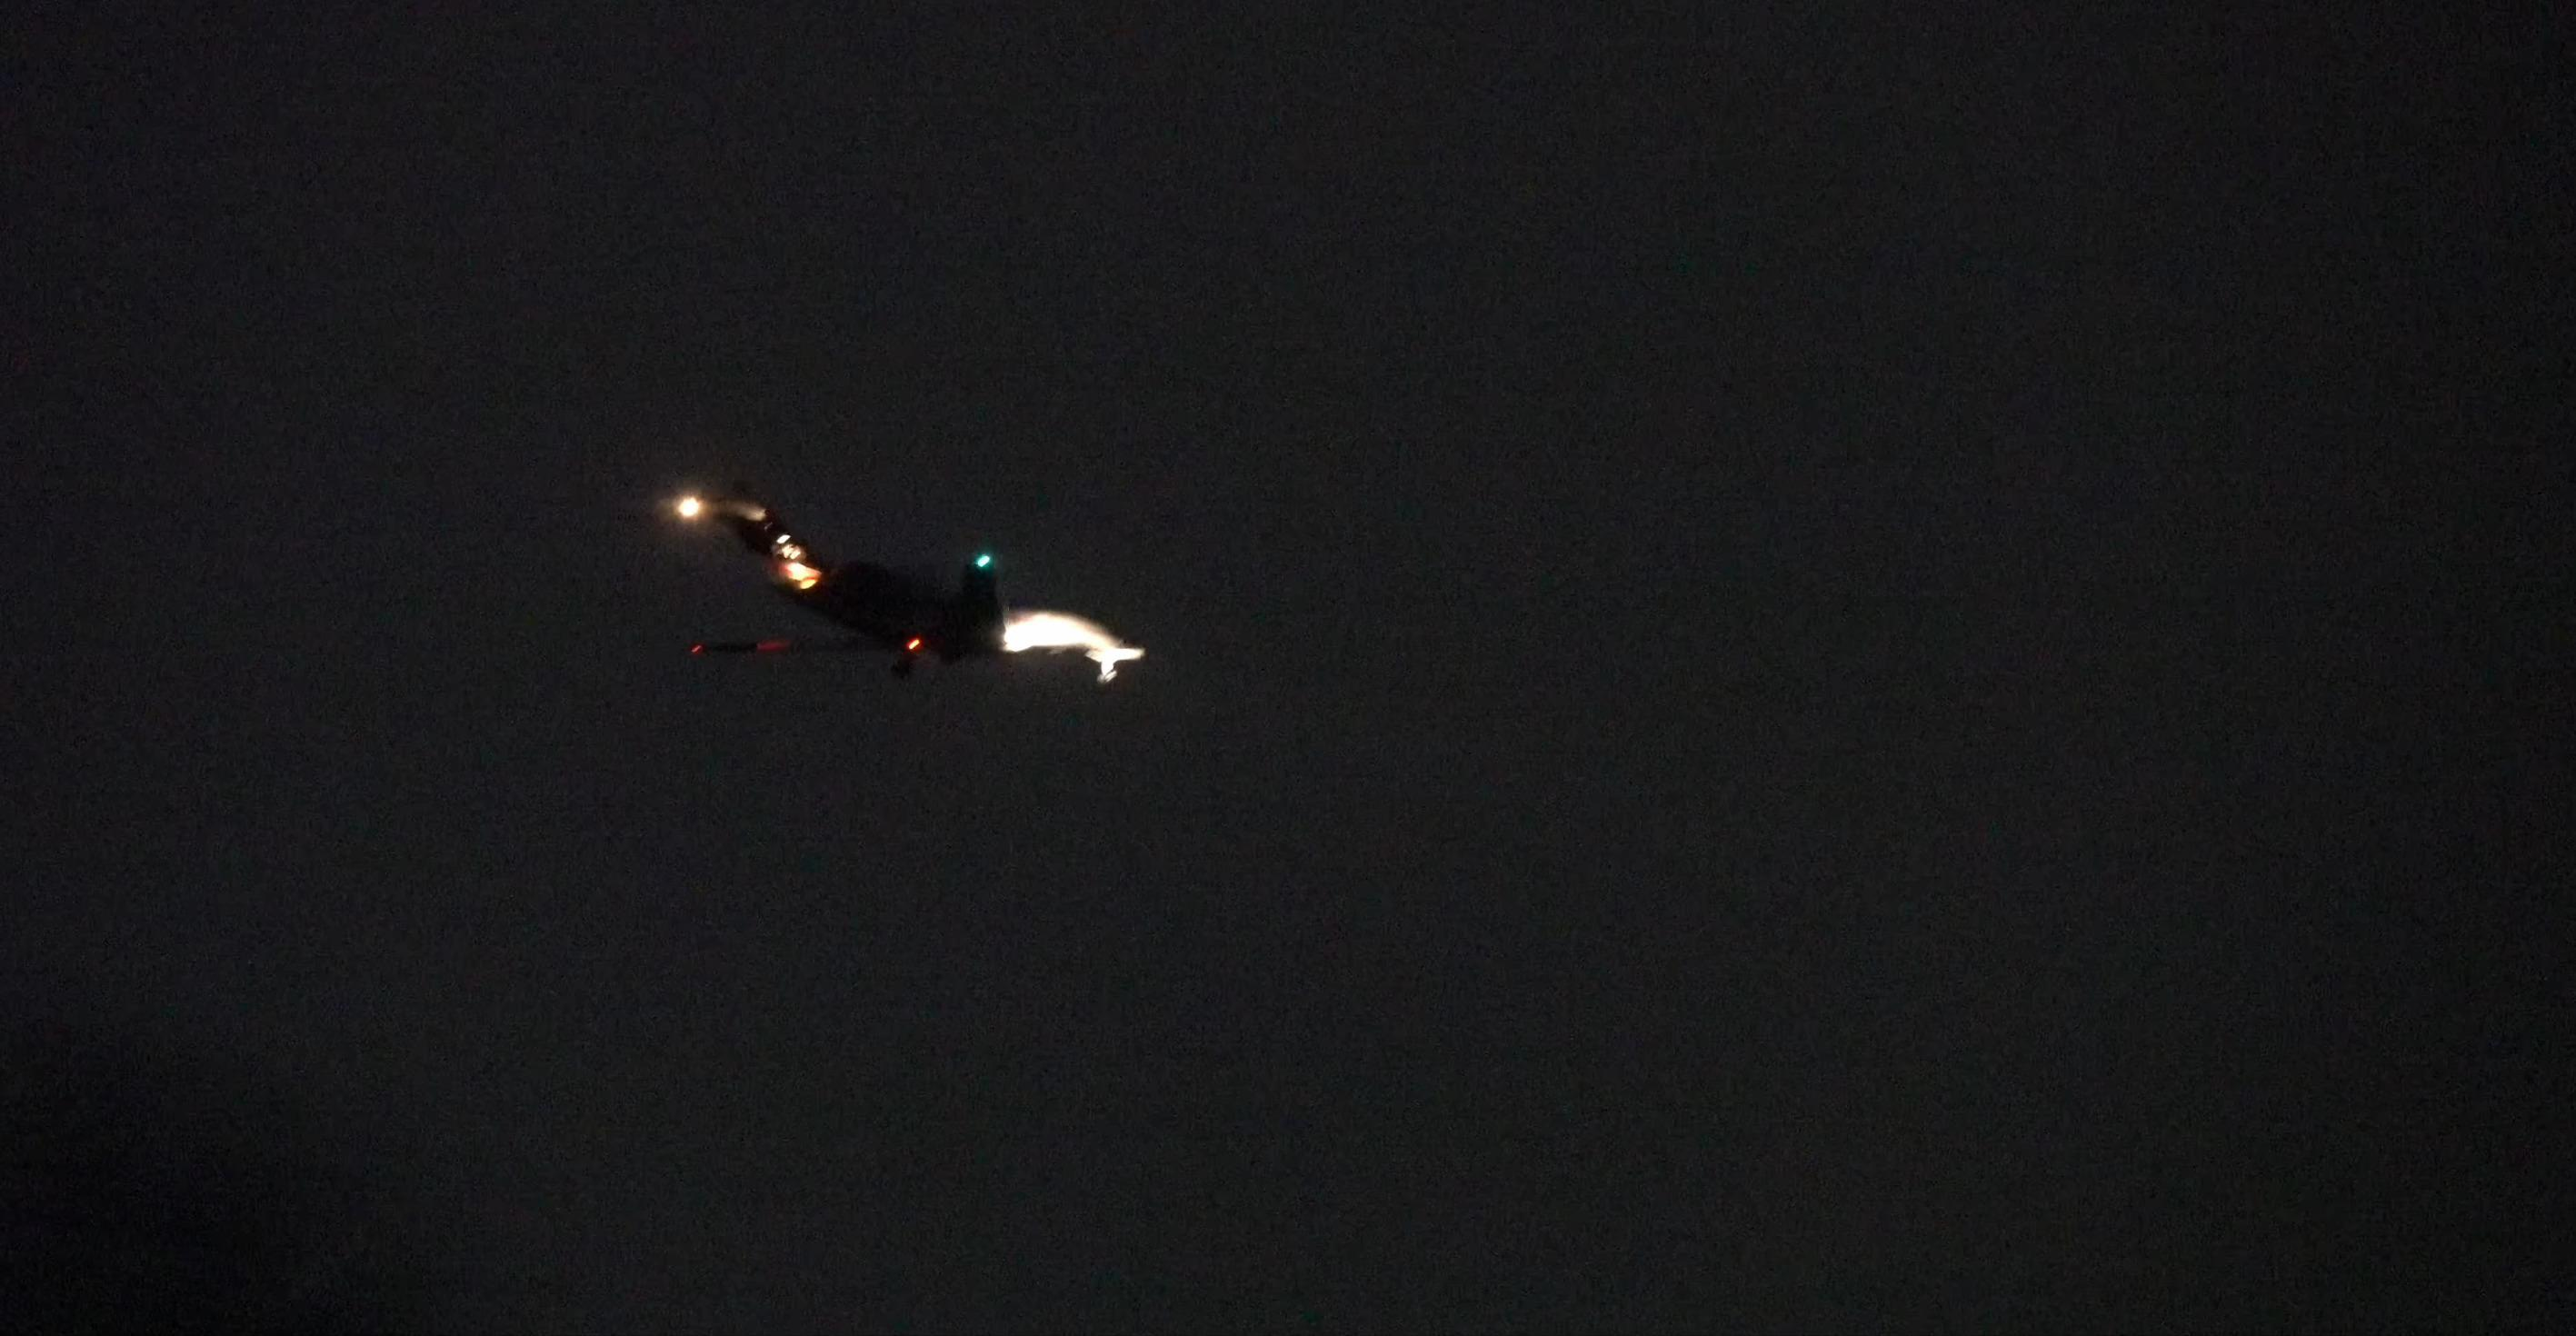Plane: (641, 465, 1187, 724)
